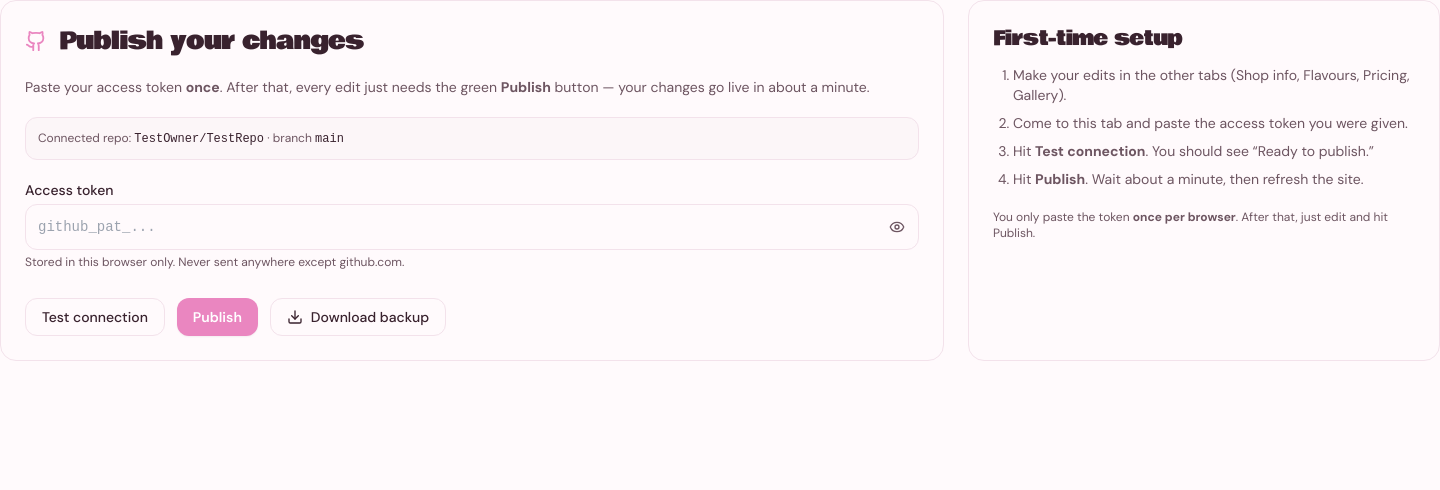
Scenario: PublishPanel — Test connection › shows an error when verifyAccess rejects
Type "bad" into the password field with placeholder "github_pat_..." at [472, 227], box [25, 204, 919, 250]
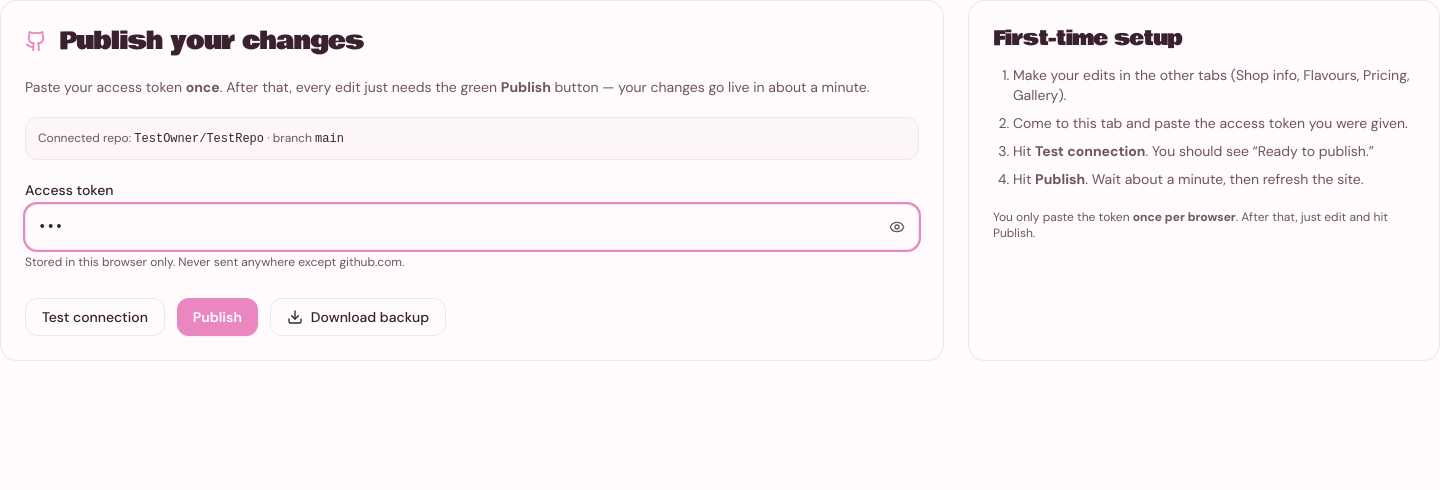
Click the button "Test connection" at [95, 317], box [25, 298, 165, 336]
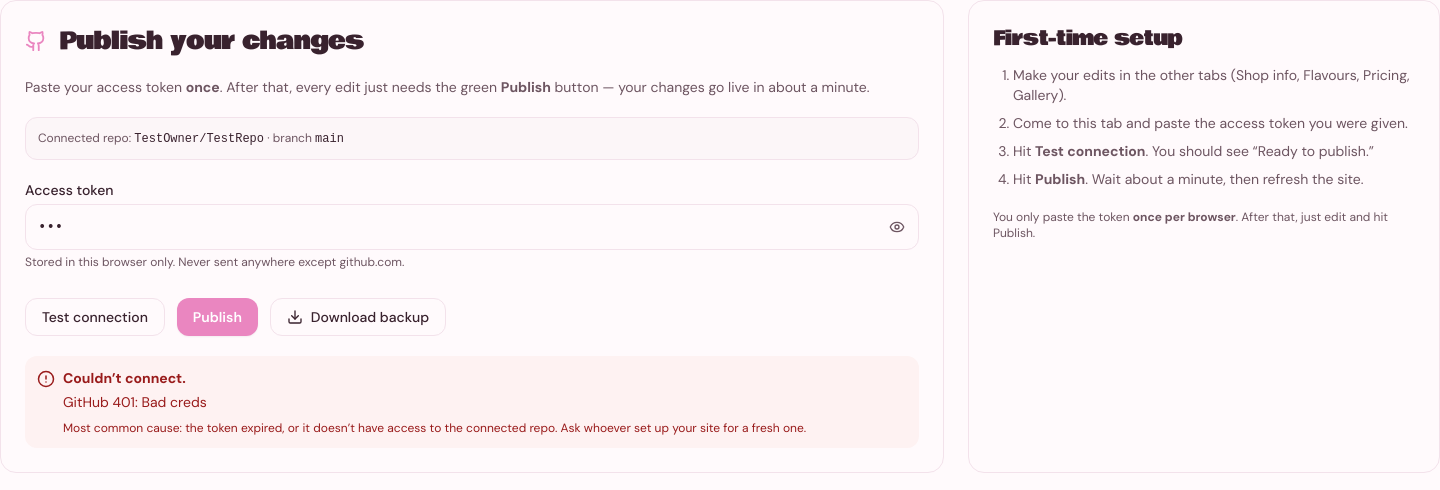
Result: the text "GitHub 401: Bad creds" is shown at [63, 393, 207, 411]
